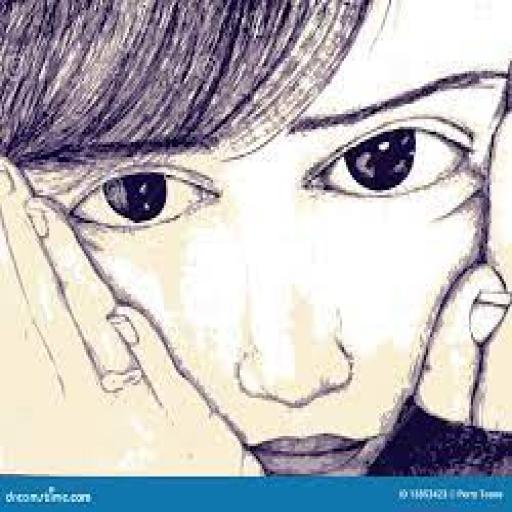person: (6, 0, 512, 479)
